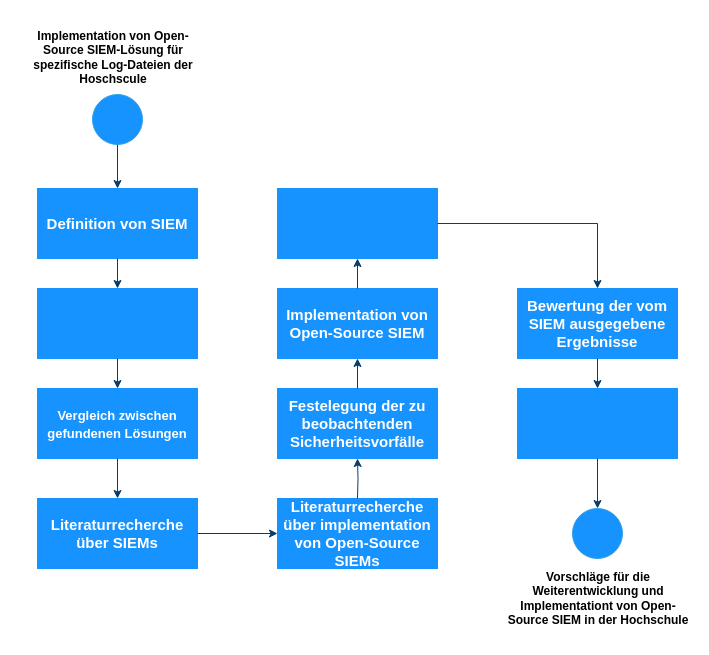
Some shapes in this 709 by 655 pixel diagram are drawn without their labels. The box of each missing label's shape, as (x1, y1, x2, y2) in pixels:
Bearbeitung der Logdateien für die SIEM: (276, 188, 438, 258)
Beschreibung von existierenden SIEMs: (36, 288, 198, 358)
Darstellung der Ergebnisse: (516, 388, 678, 458)
